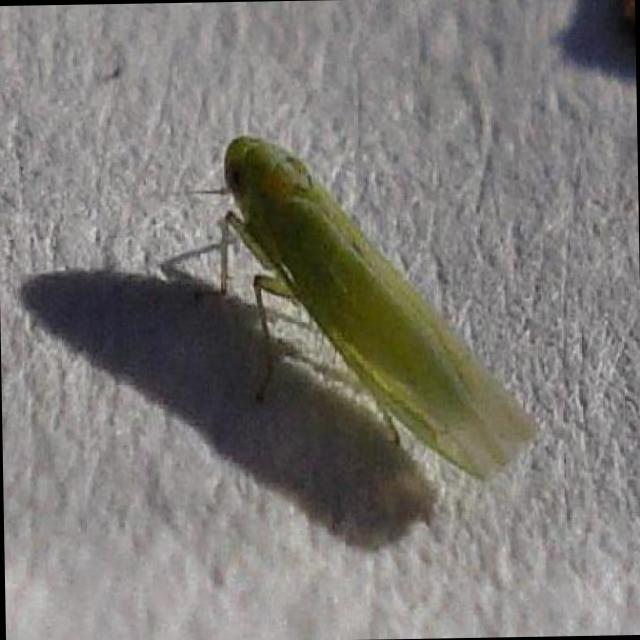green-leafhopper: (220, 121, 525, 503)
